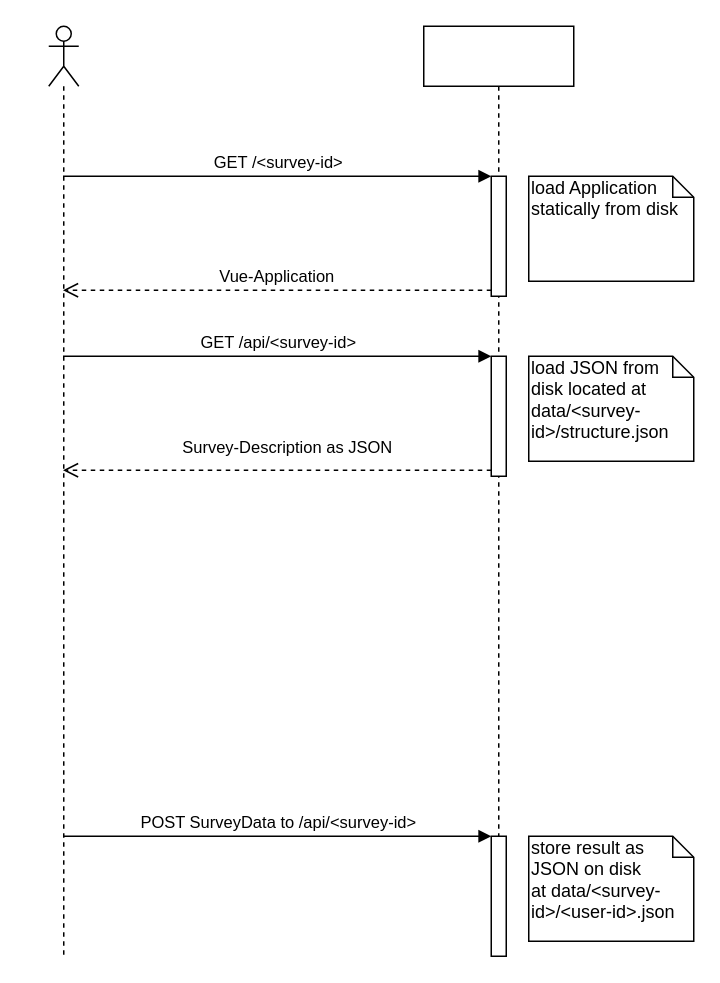
The diagram is 720 pixels wide and 983 high, and some of its shapes have lost their labels. The box of each missing label's shape, as (x1, y1, x2, y2) in pixels:
:Frontend: (47, 25, 79, 956)
:Server: (422, 25, 574, 956)
